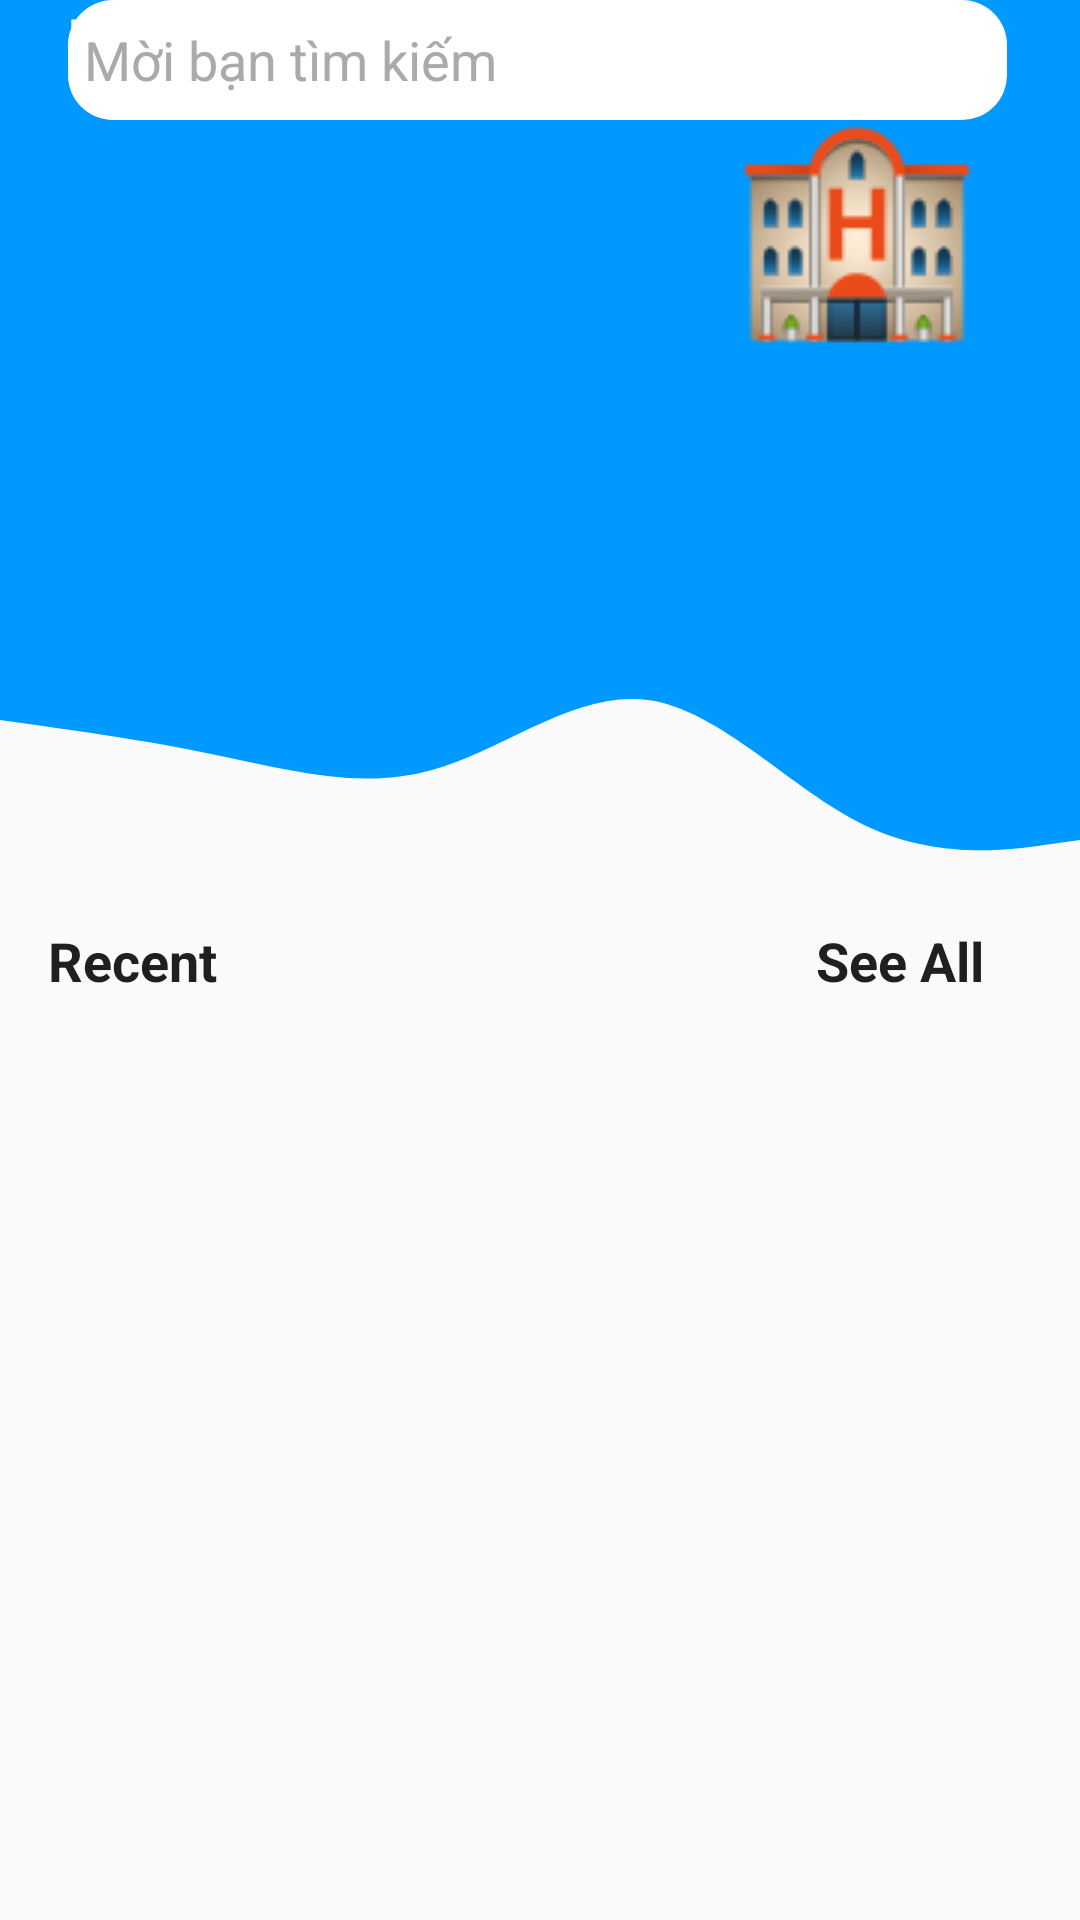

Point at icon controls on the screen. Image size 1080w x 1920h, points as (x,y).
hotel: (857,234)
